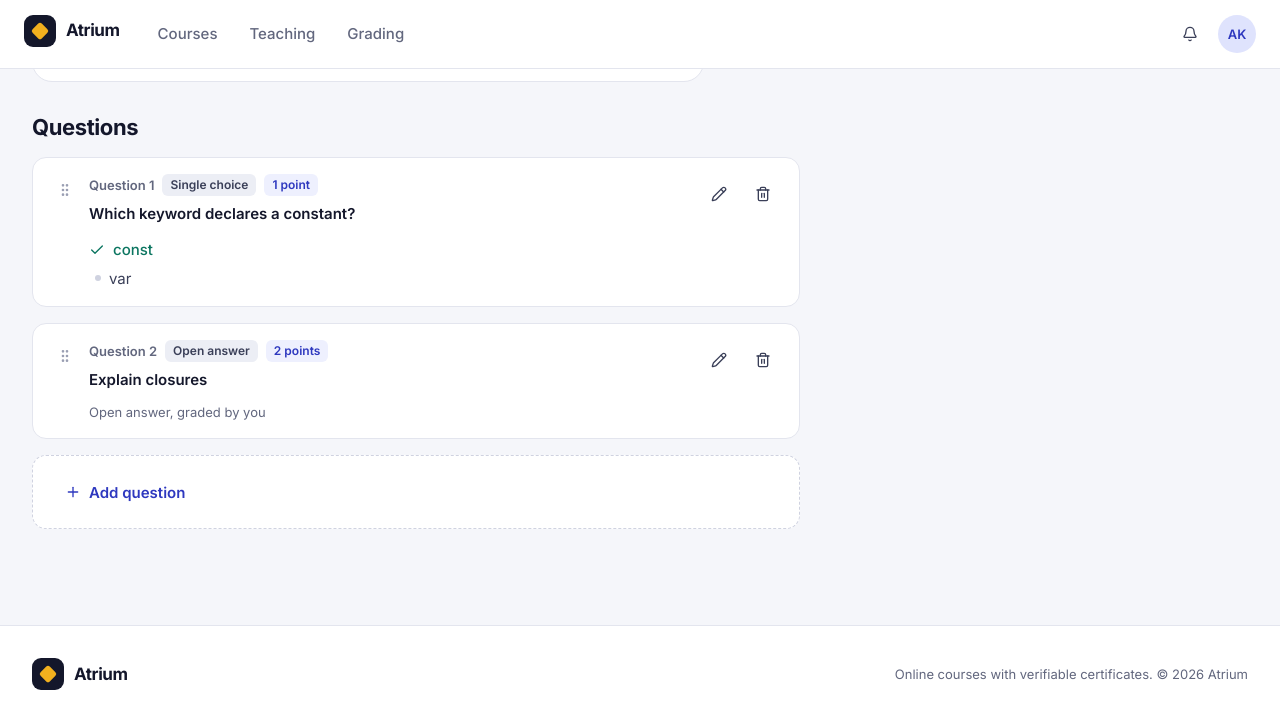
Test: quiz builder › deletes a question only after confirmation
(page scrolled)
Click the button named "Delete question 2": (763, 360) [743, 340, 783, 380]
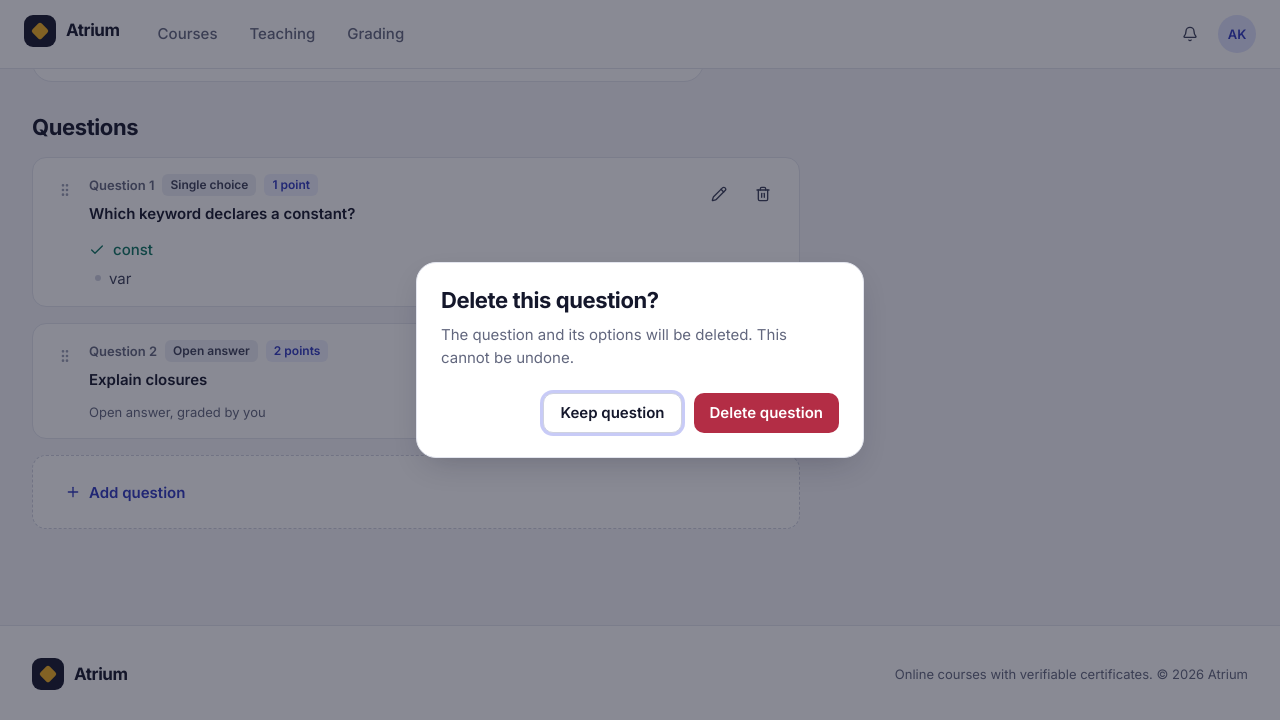
Click the button "Keep question": (612, 413) [544, 393, 682, 433]
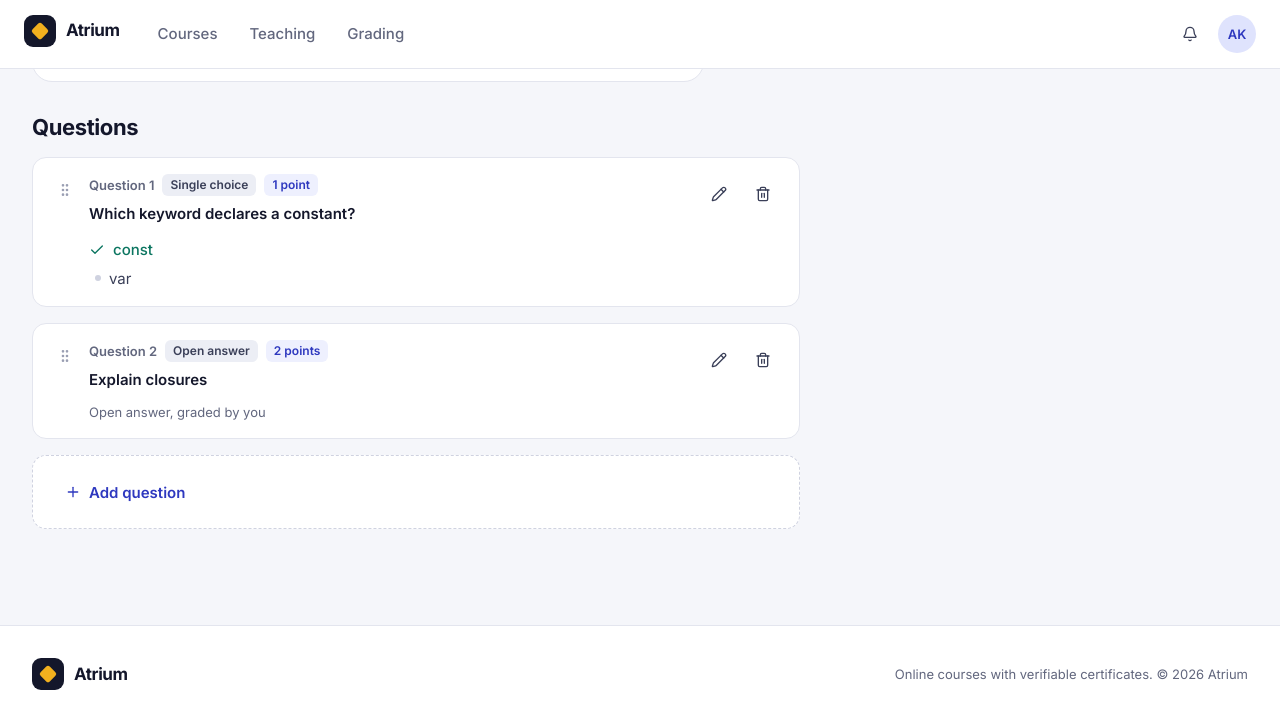
Click the button named "Delete question 2": (763, 360) [743, 340, 783, 380]
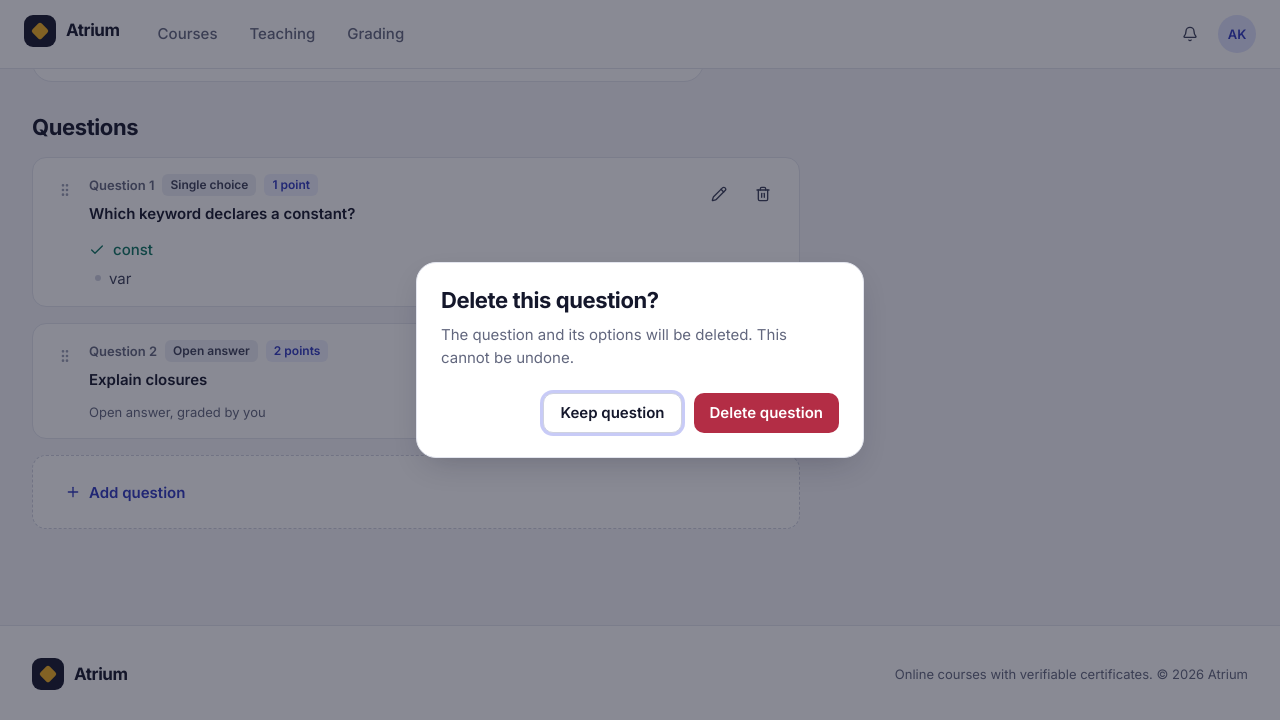
Click the button "Delete question": (766, 413) [694, 393, 839, 433]
(page scrolled)
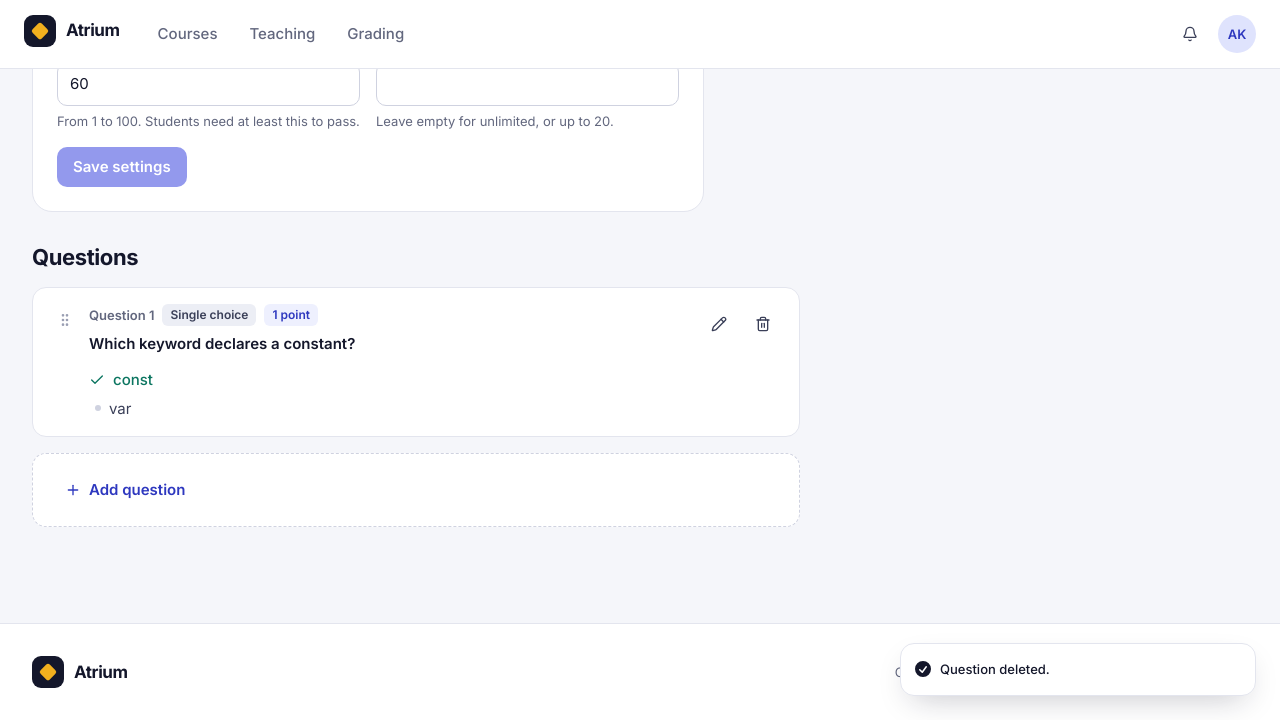
Check: the text "Explain closures" is gone
